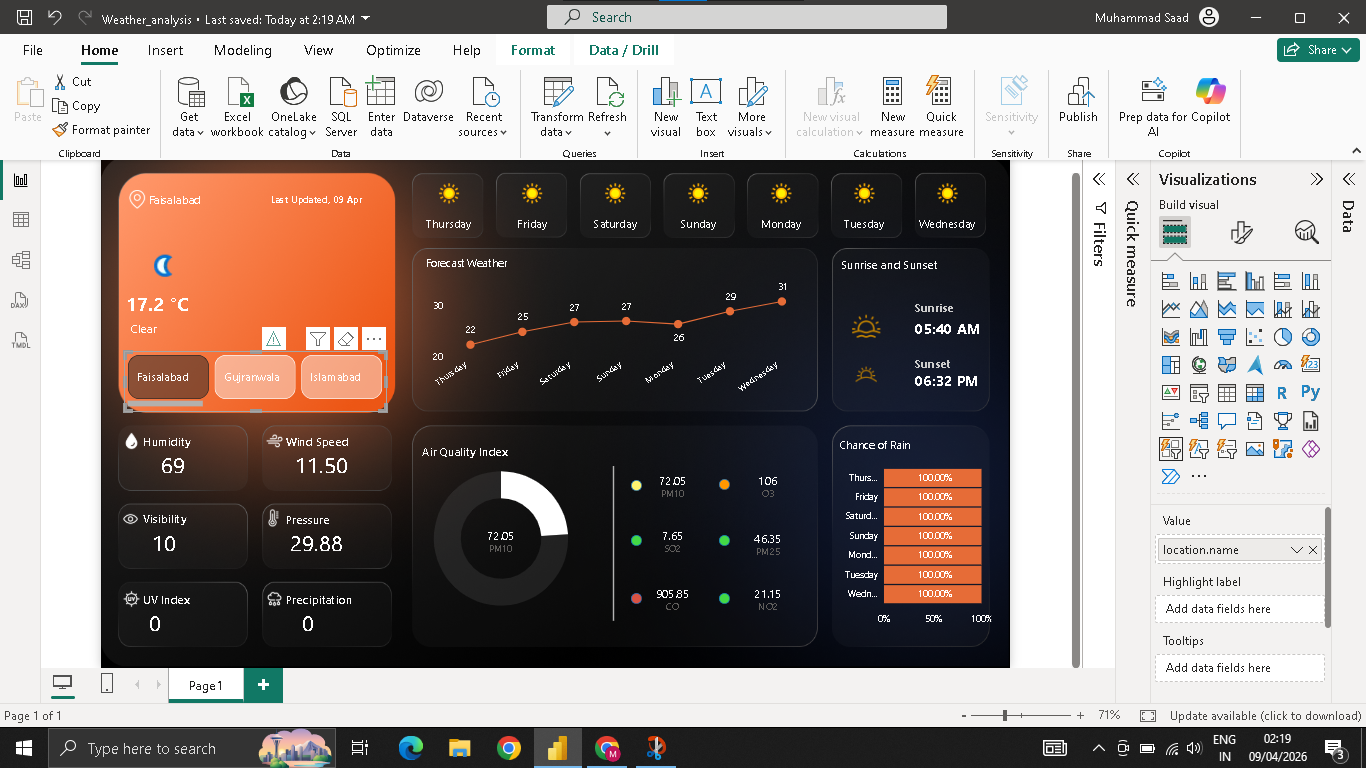

This screenshot's page, from the dashboard's own definition file:
{"tool":"powerbi","page":{"name":"Page 1","canvas":[1280,720],"ordinal":0},"visuals":[{"type":"advancedSlicerVisual","fields":{"Values":["Location.location.name"]},"box":[32.9,272.9,370,85.7],"z":0},{"type":"shape","box":[42.5,222.5,313.2,38.3],"z":2000},{"type":"shape","box":[68,38.3,131.8,42.5],"z":3000},{"type":"image","box":[38.3,46.8,25.5,25.5],"z":5000},{"type":"cardVisual","fields":{"Data":["Min(Current.current.condition.icon)"]},"box":[32.6,90.7,116.2,86.5],"z":6000},{"type":"image","box":[31.2,385.5,24.1,28.3],"z":7000},{"type":"shape","box":[59.5,378.4,150.2,42.5],"z":8000},{"type":"image","box":[29.8,496.1,24.1,28.3],"z":9000},{"type":"shape","box":[59.5,487.6,150.2,42.5],"z":10000},{"type":"image","box":[31.2,608,24.1,28.3],"z":11000},{"type":"shape","box":[59.5,600.9,150.2,42.5],"z":12000},{"type":"image","box":[232.4,385.5,24.1,28.3],"z":13000},{"type":"shape","box":[260.8,378.4,150.2,42.5],"z":14000},{"type":"image","box":[231.1,494.7,24.1,28.3],"z":15000},{"type":"shape","box":[260.8,489,150.2,42.5],"z":16000},{"type":"image","box":[232.4,608,24.1,28.3],"z":17000},{"type":"shape","box":[260.8,600.9,150.2,42.5],"z":18000},{"type":"cardVisual","fields":{"Data":["Sum(Current.current.humidity)"]},"box":[55.3,399.7,113.4,62.4],"z":19000},{"type":"cardVisual","fields":{"Data":["Sum(Current.current.wind_kph)"]},"box":[243.1,400,144.3,62.7],"z":20000},{"type":"cardVisual","fields":{"Data":["Sum(Current.current.pressure_in)"]},"box":[236.7,510.2,155.9,62.4],"z":21000},{"type":"cardVisual","fields":{"Data":["Sum(Current.current.vis_km)"]},"box":[42.4,509.8,144.3,62.7],"z":22000},{"type":"cardVisual","fields":{"Data":["Sum(Current.current.uv)"]},"box":[37.6,622.7,144.3,62.7],"z":23000},{"type":"cardVisual","fields":{"Data":["Sum(Current.current.precip_in)"]},"box":[254.1,622.7,144.3,62.7],"z":24000},{"type":"advancedSlicerVisual","fields":{"Values":["Forecast_day.Day_Name"]},"box":[427.2,20.1,829.3,102.2],"z":25000},{"type":"lineChart","title":"Forecast Weather","fields":{"Y":["Sum(Forecast_day.forecast.forecastday.day.avgtemp_c)"],"Category":["Forecast_day.Day_Name"]},"box":[452.4,137.4,541.2,207.7],"z":26000},{"type":"shape","box":[1042.1,130.7,199.4,41.9],"z":27000},{"type":"shape","box":[1146,212.8,98.8,55.3],"z":28000},{"type":"shape","box":[1146,286.5,93.8,55.3],"z":29000},{"type":"shape","box":[1146,184.3,98.8,55.3],"z":30000},{"type":"shape","box":[1146,263,83.8,55.3],"z":31000},{"type":"image","box":[1057.2,217.8,40.2,40],"z":32000},{"type":"image","box":[1057.2,286.5,40.2,40.2],"z":33000},{"type":"hundredPercentStackedBarChart","title":"Chance of Rain","fields":{"Category":["Forecast_day.Day_Name"],"Y":["Sum(Forecast_day.forecast.forecastday.day.daily_chance_of_rain)","Measure.Left_Rain_Chance"]},"box":[1033.8,394.4,225.4,273.2],"z":34000},{"type":"shape","box":[452.1,393,150.7,42.3],"z":35000},{"type":"cardVisual","fields":{"Data":["Sum(Current.current.air_quality.o3)"]},"box":[885.9,422.5,107,81.7],"z":36000},{"type":"cardVisual","fields":{"Data":["Sum(Current.current.air_quality.pm2_5)"]},"box":[885.9,504.2,107,81.7],"z":37000},{"type":"cardVisual","fields":{"Data":["Sum(Current.current.air_quality.no2)"]},"box":[885.9,581.7,107,81.7],"z":38000},{"type":"cardVisual","fields":{"Data":["Sum(Current.current.air_quality.pm10)"]},"box":[750.7,422.5,109.9,81.7],"z":39000},{"type":"cardVisual","fields":{"Data":["Sum(Current.current.air_quality.so2)"]},"box":[750.7,500,109.9,81.7],"z":40000},{"type":"cardVisual","fields":{"Data":["Sum(Current.current.air_quality.co)"]},"box":[750.7,581.7,109.9,81.7],"z":41000},{"type":"shape","box":[746.5,454.9,15.5,15.5],"z":42000},{"type":"cardVisual","fields":{"Data":["Measure.Curr_Temp_C"]},"box":[5.6,173.2,167.6,62],"z":42001},{"type":"cardVisual","fields":{"Data":["Measure.last_update"]},"box":[195.8,28.2,201.4,62],"z":42002},{"type":"shape","box":[746.5,532.4,15.5,15.5],"z":42003},{"type":"shape","box":[746.5,614.1,15.5,15.5],"z":42004},{"type":"shape","box":[870.4,453.5,15.5,15.5],"z":42005},{"type":"shape","box":[870.4,532.4,15.5,15.5],"z":42006},{"type":"shape","box":[870.4,614.1,15.5,15.5],"z":42007},{"type":"shape","box":[646.5,435.2,150.7,218.3],"z":42008},{"type":"cardVisual","fields":{"Data":["Sum(Current.current.air_quality.pm10)"]},"box":[508.5,500,109.9,81.7],"z":42009},{"type":"donutChart","fields":{"Y":["Sum(Current.current.air_quality.pm10)","Measure.PM10_Left"]},"box":[415.5,414.1,295.8,246.5],"z":42010}]}

Visuals, with their boxes on the page's 1280x720 design canvas (x1, y1, x2, y2). These are canvas units, not pixel positions in the 1366x768 screenshot, which may show the page scaled, cropped or inside an application window:
advancedSlicerVisual - Location.location.name: {"left": 33, "top": 273, "right": 403, "bottom": 359}
shape: {"left": 42, "top": 222, "right": 356, "bottom": 261}
shape: {"left": 68, "top": 38, "right": 200, "bottom": 81}
image: {"left": 38, "top": 47, "right": 64, "bottom": 72}
cardVisual - Min(Current.current.condition.icon): {"left": 33, "top": 91, "right": 149, "bottom": 177}
image: {"left": 31, "top": 386, "right": 55, "bottom": 414}
shape: {"left": 60, "top": 378, "right": 210, "bottom": 421}
image: {"left": 30, "top": 496, "right": 54, "bottom": 524}
shape: {"left": 60, "top": 488, "right": 210, "bottom": 530}
image: {"left": 31, "top": 608, "right": 55, "bottom": 636}
shape: {"left": 60, "top": 601, "right": 210, "bottom": 643}
image: {"left": 232, "top": 386, "right": 256, "bottom": 414}
shape: {"left": 261, "top": 378, "right": 411, "bottom": 421}
image: {"left": 231, "top": 495, "right": 255, "bottom": 523}
shape: {"left": 261, "top": 489, "right": 411, "bottom": 532}
image: {"left": 232, "top": 608, "right": 256, "bottom": 636}
shape: {"left": 261, "top": 601, "right": 411, "bottom": 643}
cardVisual - Sum(Current.current.humidity): {"left": 55, "top": 400, "right": 169, "bottom": 462}
cardVisual - Sum(Current.current.wind_kph): {"left": 243, "top": 400, "right": 387, "bottom": 463}
cardVisual - Sum(Current.current.pressure_in): {"left": 237, "top": 510, "right": 393, "bottom": 573}
cardVisual - Sum(Current.current.vis_km): {"left": 42, "top": 510, "right": 187, "bottom": 572}
cardVisual - Sum(Current.current.uv): {"left": 38, "top": 623, "right": 182, "bottom": 685}
cardVisual - Sum(Current.current.precip_in): {"left": 254, "top": 623, "right": 398, "bottom": 685}
advancedSlicerVisual - Forecast_day.Day_Name: {"left": 427, "top": 20, "right": 1256, "bottom": 122}
"Forecast Weather" lineChart: {"left": 452, "top": 137, "right": 994, "bottom": 345}
shape: {"left": 1042, "top": 131, "right": 1242, "bottom": 173}
shape: {"left": 1146, "top": 213, "right": 1245, "bottom": 268}
shape: {"left": 1146, "top": 286, "right": 1240, "bottom": 342}
shape: {"left": 1146, "top": 184, "right": 1245, "bottom": 240}
shape: {"left": 1146, "top": 263, "right": 1230, "bottom": 318}
image: {"left": 1057, "top": 218, "right": 1097, "bottom": 258}
image: {"left": 1057, "top": 286, "right": 1097, "bottom": 327}
"Chance of Rain" hundredPercentStackedBarChart: {"left": 1034, "top": 394, "right": 1259, "bottom": 668}
shape: {"left": 452, "top": 393, "right": 603, "bottom": 435}
cardVisual - Sum(Current.current.air_quality.o3): {"left": 886, "top": 422, "right": 993, "bottom": 504}
cardVisual - Sum(Current.current.air_quality.pm2_5): {"left": 886, "top": 504, "right": 993, "bottom": 586}
cardVisual - Sum(Current.current.air_quality.no2): {"left": 886, "top": 582, "right": 993, "bottom": 663}
cardVisual - Sum(Current.current.air_quality.pm10): {"left": 751, "top": 422, "right": 861, "bottom": 504}
cardVisual - Sum(Current.current.air_quality.so2): {"left": 751, "top": 500, "right": 861, "bottom": 582}
cardVisual - Sum(Current.current.air_quality.co): {"left": 751, "top": 582, "right": 861, "bottom": 663}
shape: {"left": 746, "top": 455, "right": 762, "bottom": 470}
cardVisual - Measure.Curr_Temp_C: {"left": 6, "top": 173, "right": 173, "bottom": 235}
cardVisual - Measure.last_update: {"left": 196, "top": 28, "right": 397, "bottom": 90}
shape: {"left": 746, "top": 532, "right": 762, "bottom": 548}
shape: {"left": 746, "top": 614, "right": 762, "bottom": 630}
shape: {"left": 870, "top": 454, "right": 886, "bottom": 469}
shape: {"left": 870, "top": 532, "right": 886, "bottom": 548}
shape: {"left": 870, "top": 614, "right": 886, "bottom": 630}
shape: {"left": 646, "top": 435, "right": 797, "bottom": 654}
cardVisual - Sum(Current.current.air_quality.pm10): {"left": 508, "top": 500, "right": 618, "bottom": 582}
donutChart - Sum(Current.current.air_quality.pm10) x Measure.PM10_Left: {"left": 416, "top": 414, "right": 711, "bottom": 661}
